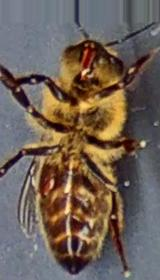varroa_mite: (24, 164, 64, 205)
